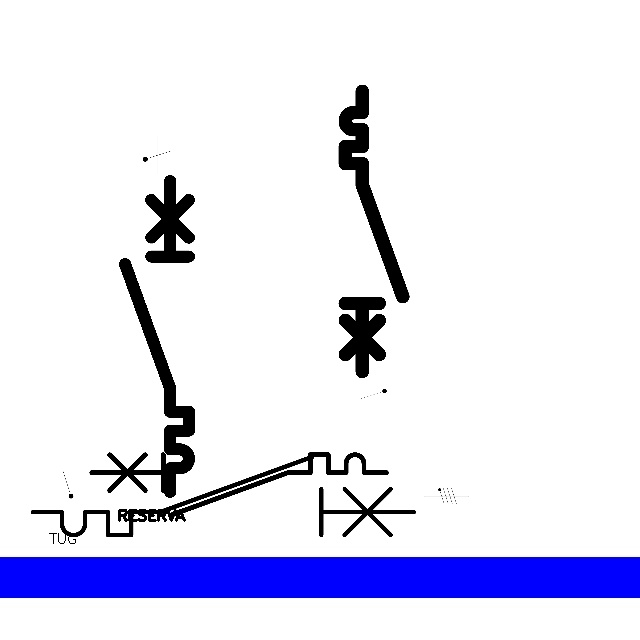interruptor_termomagnetico: (23, 447, 423, 545), (117, 173, 197, 500), (84, 447, 394, 522), (338, 84, 410, 379)
